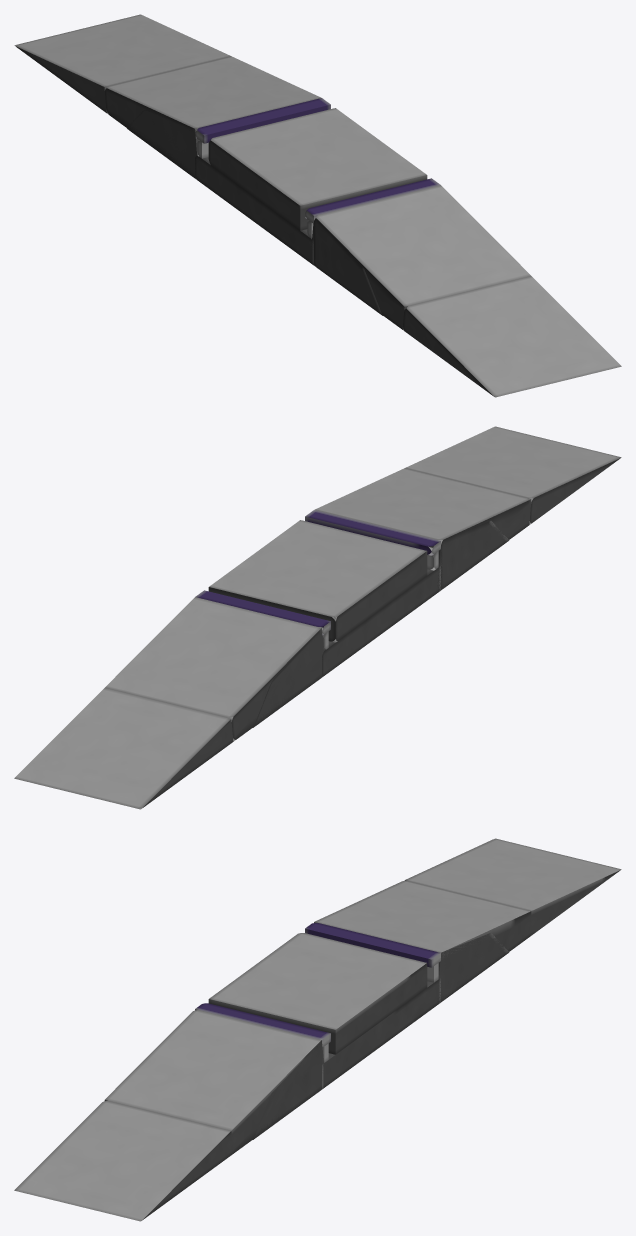
Rendered from ultra_highspeed_crossing.obj.
3 views of the same model, one above another, from view 1: azimuth 30°, elevation 25°; view 2: azimuth 150°, elevation 25°; view 3: azimuth 330°, elevation 25° (orthographic).
Parts seen in each view (by area): view 1: RAIL_LEFT, RAIL_RIGHT, RAIL_BASE; view 2: RAIL_RIGHT, RAIL_LEFT, RAIL_BASE; view 3: RAIL_LEFT, RAIL_RIGHT, RAIL_BASE.
Part boxes in pixels (x1=…): RAIL_LEFT: x1=305, y1=178, x2=621, y2=397; RAIL_RIGHT: x1=14, y1=14, x2=330, y2=179; RAIL_BASE: x1=195, y1=108, x2=427, y2=265; RAIL_RIGHT: x1=14, y1=590, x2=330, y2=809; RAIL_LEFT: x1=305, y1=426, x2=621, y2=590; RAIL_BASE: x1=208, y1=520, x2=440, y2=677; RAIL_LEFT: x1=14, y1=1003, x2=330, y2=1221; RAIL_RIGHT: x1=305, y1=838, x2=621, y2=1004; RAIL_BASE: x1=208, y1=933, x2=440, y2=1089.
Size of the model in its own units: 1 by 0.375 by 6.57.
1 material, 1 textured.
